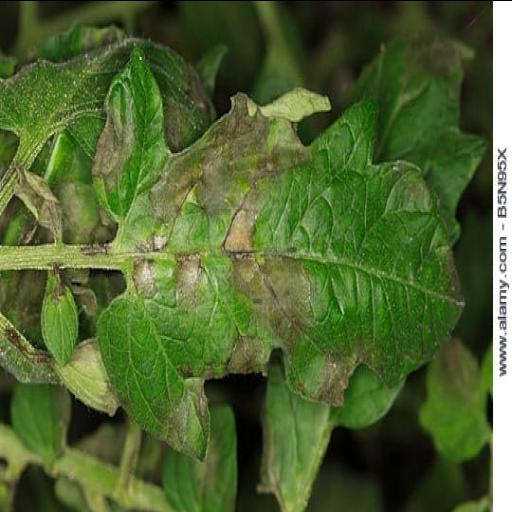disease_tomato: (88, 42, 468, 462)
